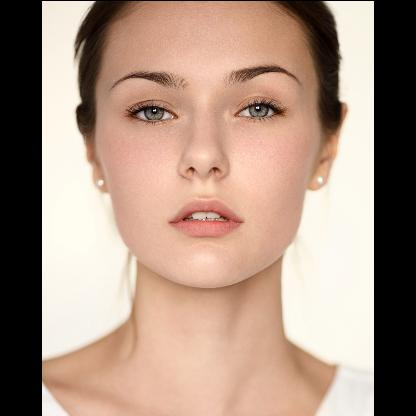Female: (77, 2, 346, 290)
